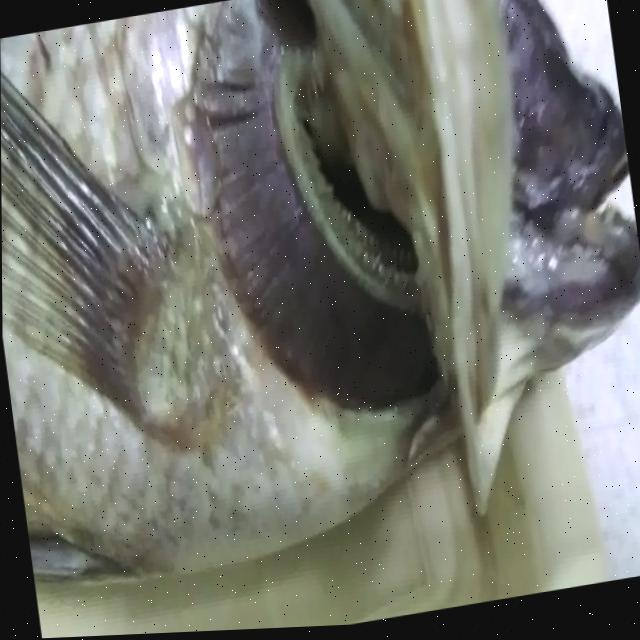Non-Fresh: (153, 0, 436, 478)
